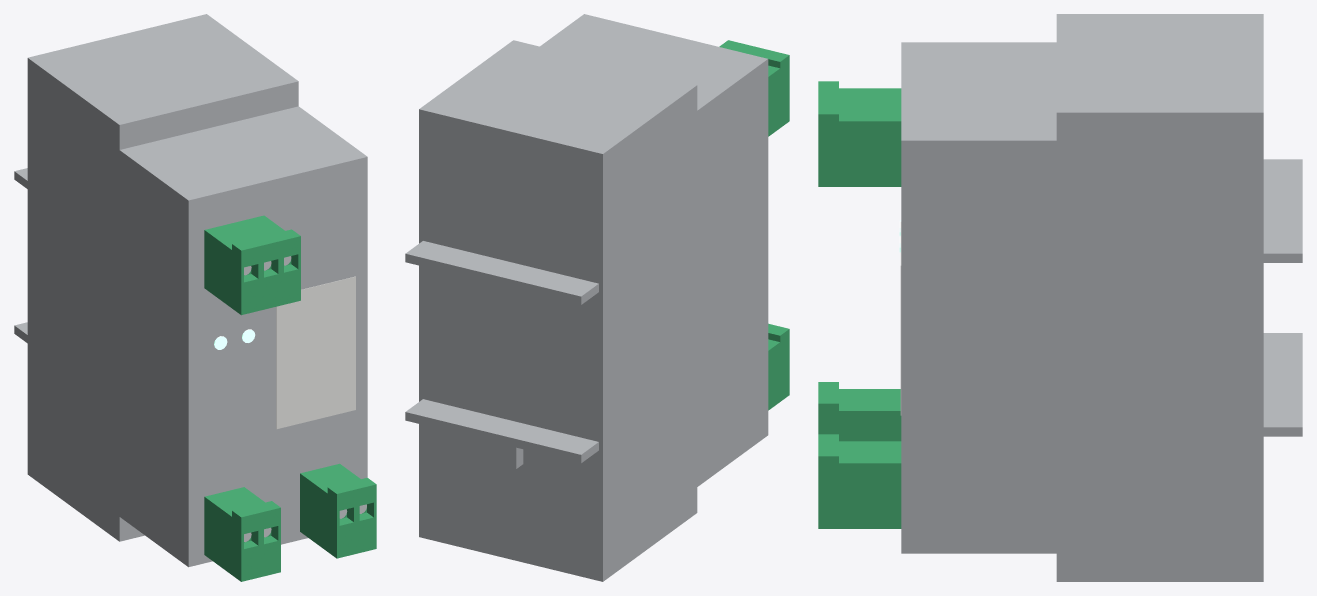
File: psu-acdc-24v-1a25.glb
3 renders of one model, left to right at view 1: azimuth 30°, elevation 25°; view 2: azimuth 150°, elevation 25°; view 3: azimuth 270°, elevation 25°, orthographic. The views are drawn at different scales.
Visible parts, largest first — view 1: body; view 2: body; view 3: body.
Part boxes in pixels (box(x1,y1,x2,y2)): body: box(14, 14, 376, 581); body: box(405, 14, 789, 581); body: box(818, 14, 1302, 581).
Size of what is drawn, in the model's own units: 0.045 by 0.1 by 0.0935.
